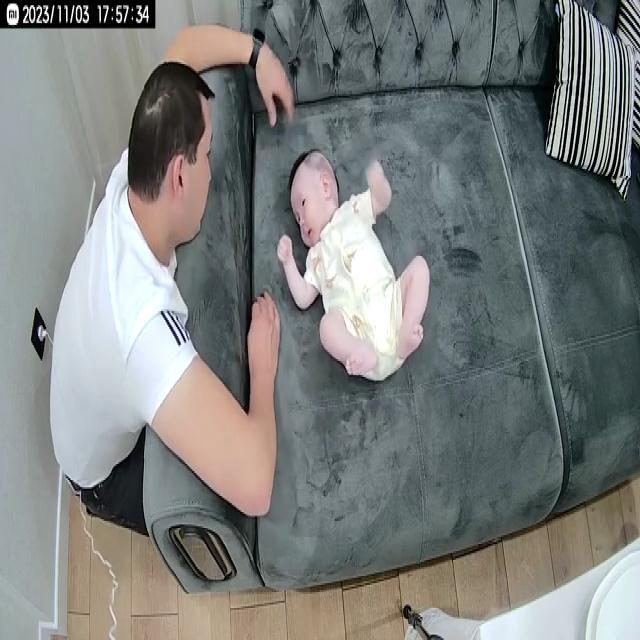baby: (276, 147, 432, 396)
